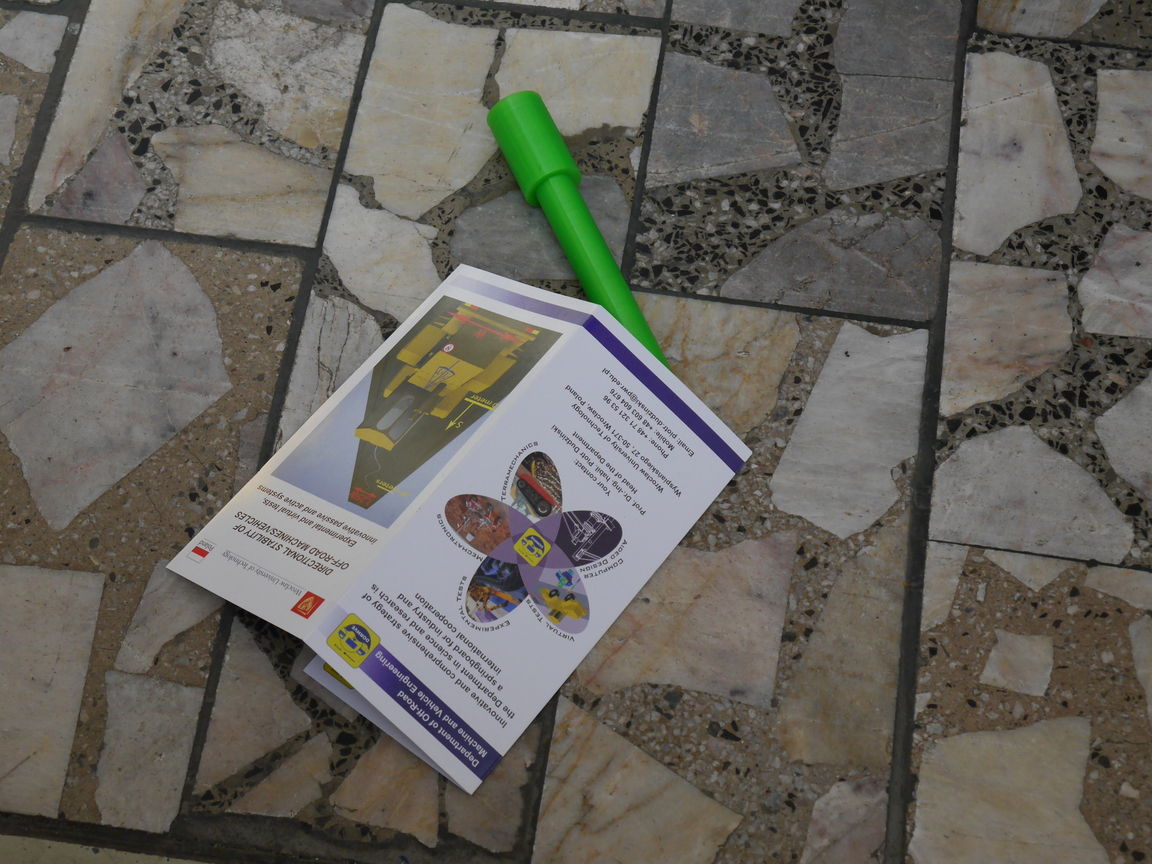cargo_g: (487, 90, 672, 374)
